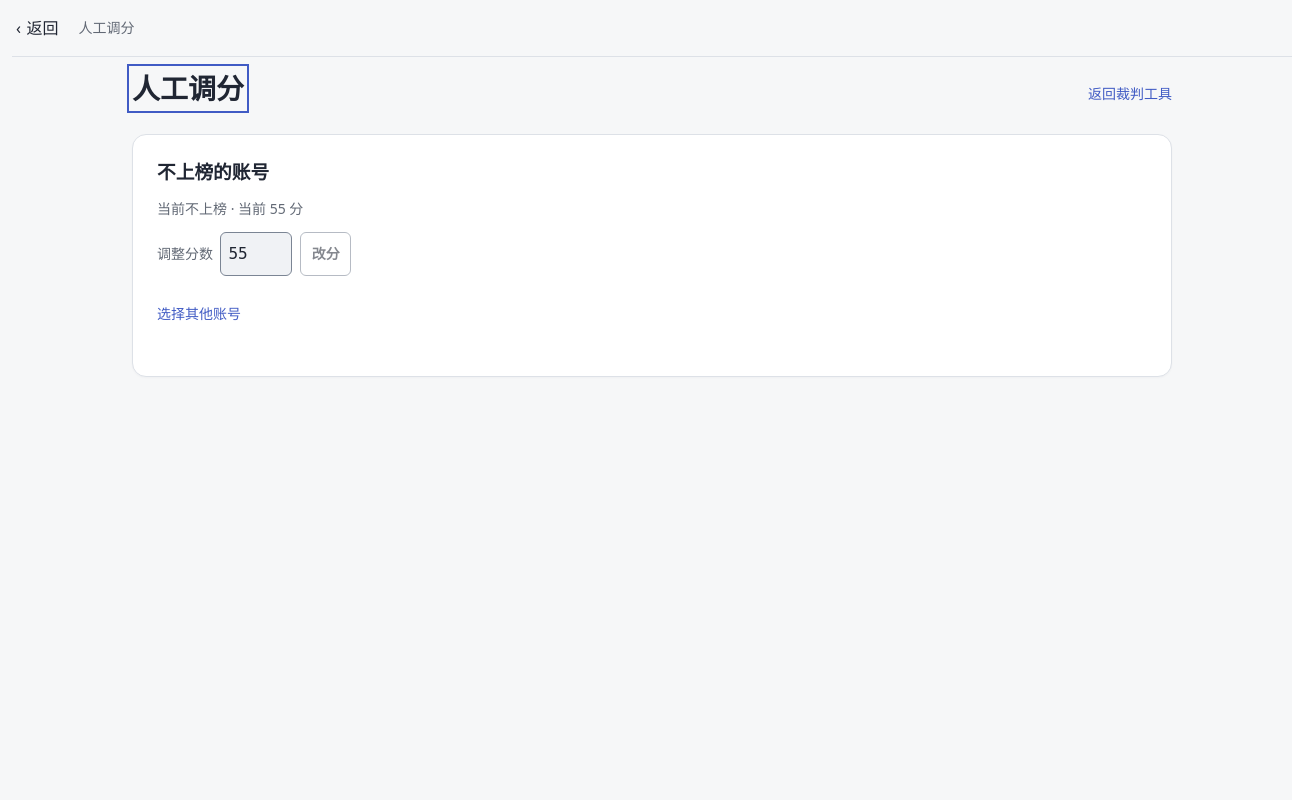
Test: manual score correction › distinguishes a successful write from a failed status refresh
The width and height of the screenshot is (1292, 800).
Replace the text in the number field labelled "调整分数" with "75". click: coordinates (256, 254)
box: [220,232,292,276]
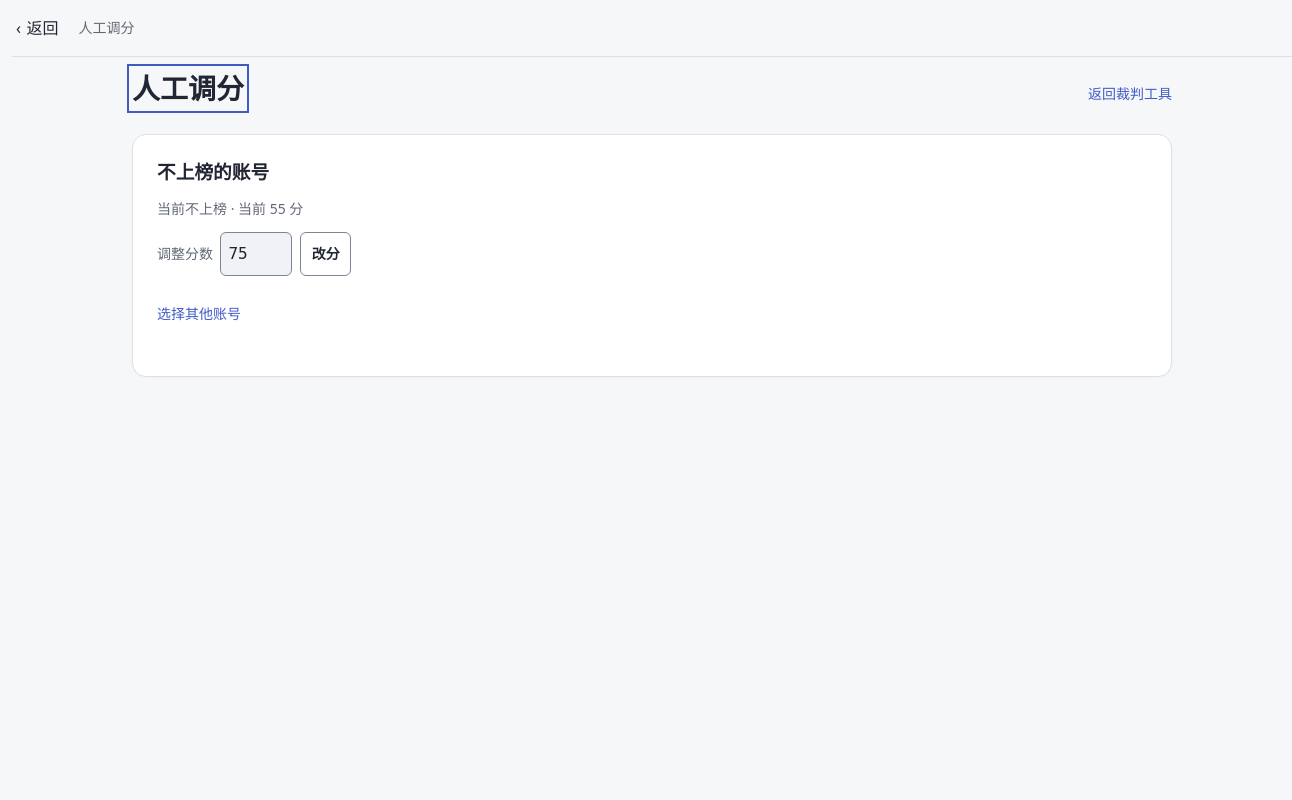
Click the button "改分". click: coordinates (326, 254)
box: [300,232,351,276]
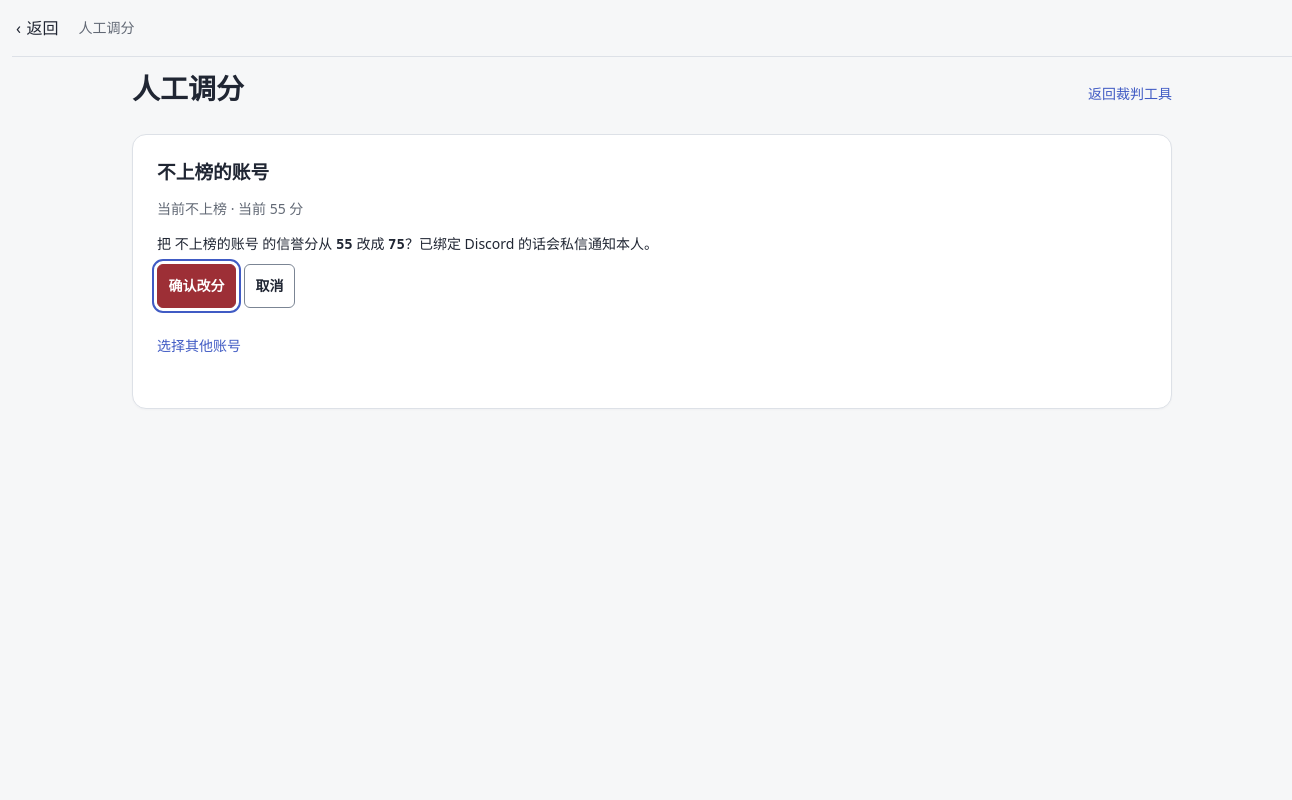
Click the button "确认改分". click: coordinates (196, 286)
box: [157,264,236,308]
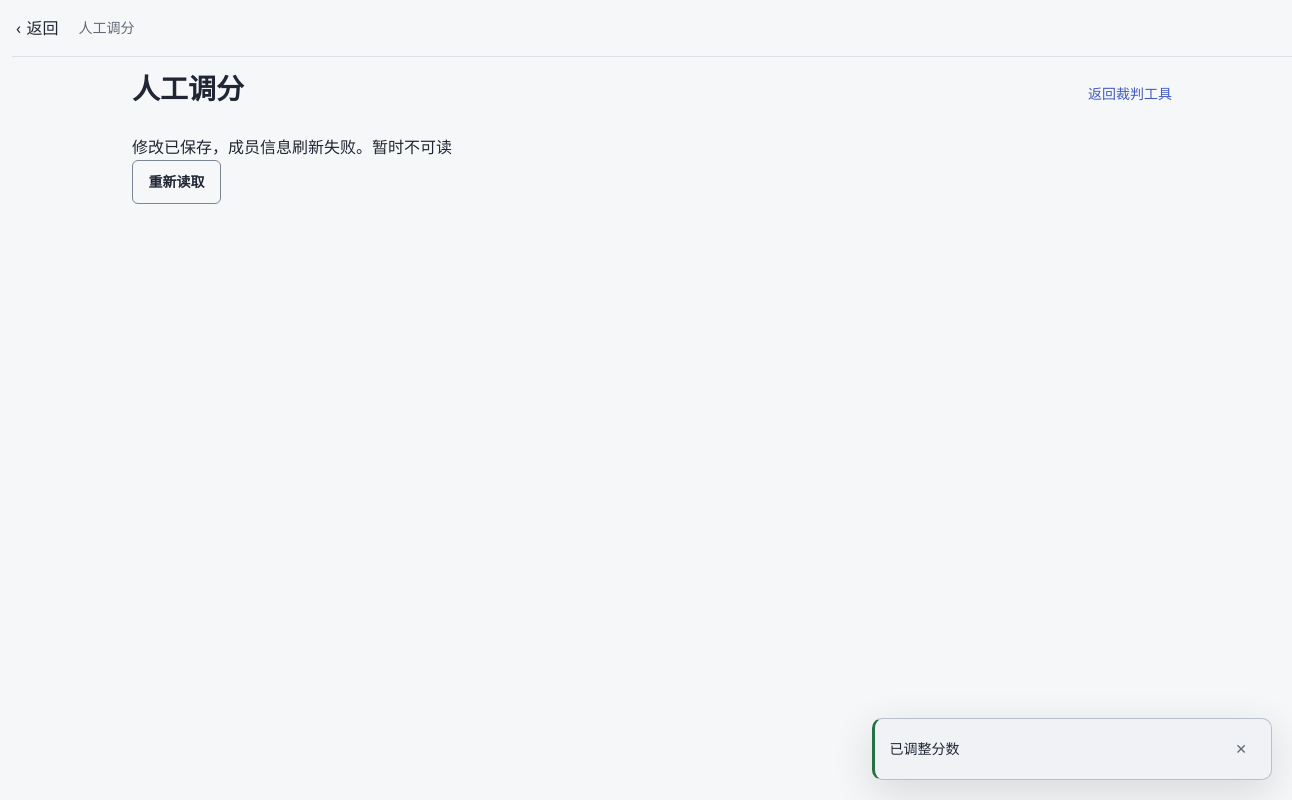
expect the message "修改已保存，成员信息刷新失败。暂时不可读" is shown: met, box [132,136,452,158]
expect the button "确认改分" is gone: met
